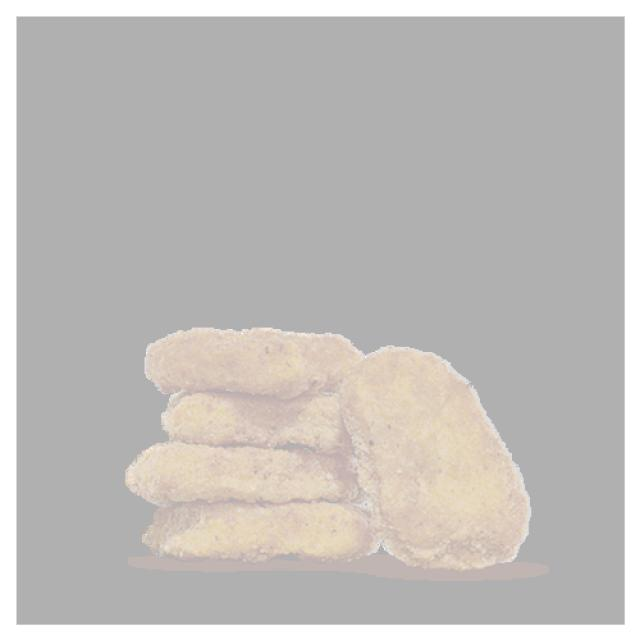chicken_nuggets: (326, 336, 545, 592), (132, 298, 361, 400), (115, 499, 388, 567), (136, 370, 365, 450), (105, 441, 374, 502)
